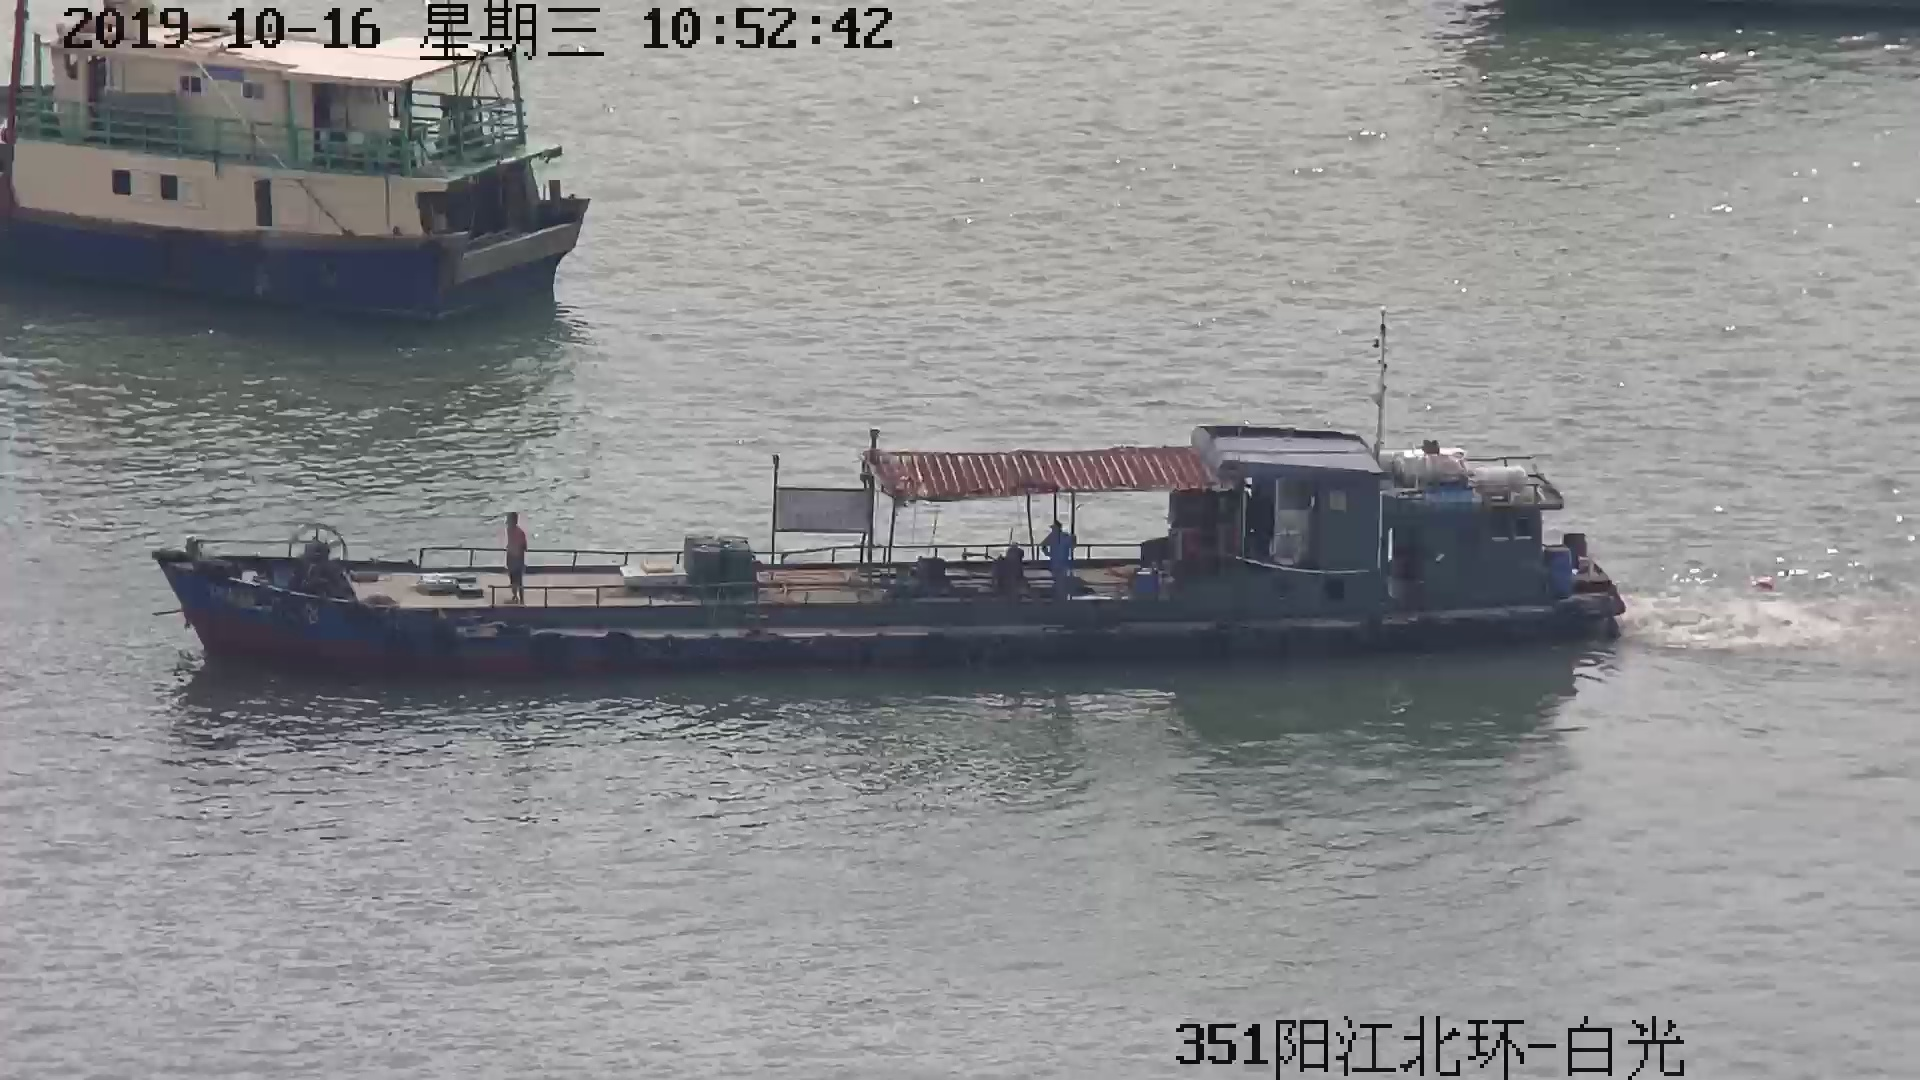ship: (156, 334, 1640, 687), (7, 3, 582, 301)
